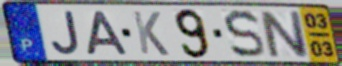9: (172, 7, 212, 60)
A: (85, 10, 132, 57)
J: (49, 9, 83, 57)
K: (130, 9, 172, 58)
N: (256, 9, 312, 59)
S: (221, 8, 267, 60)
